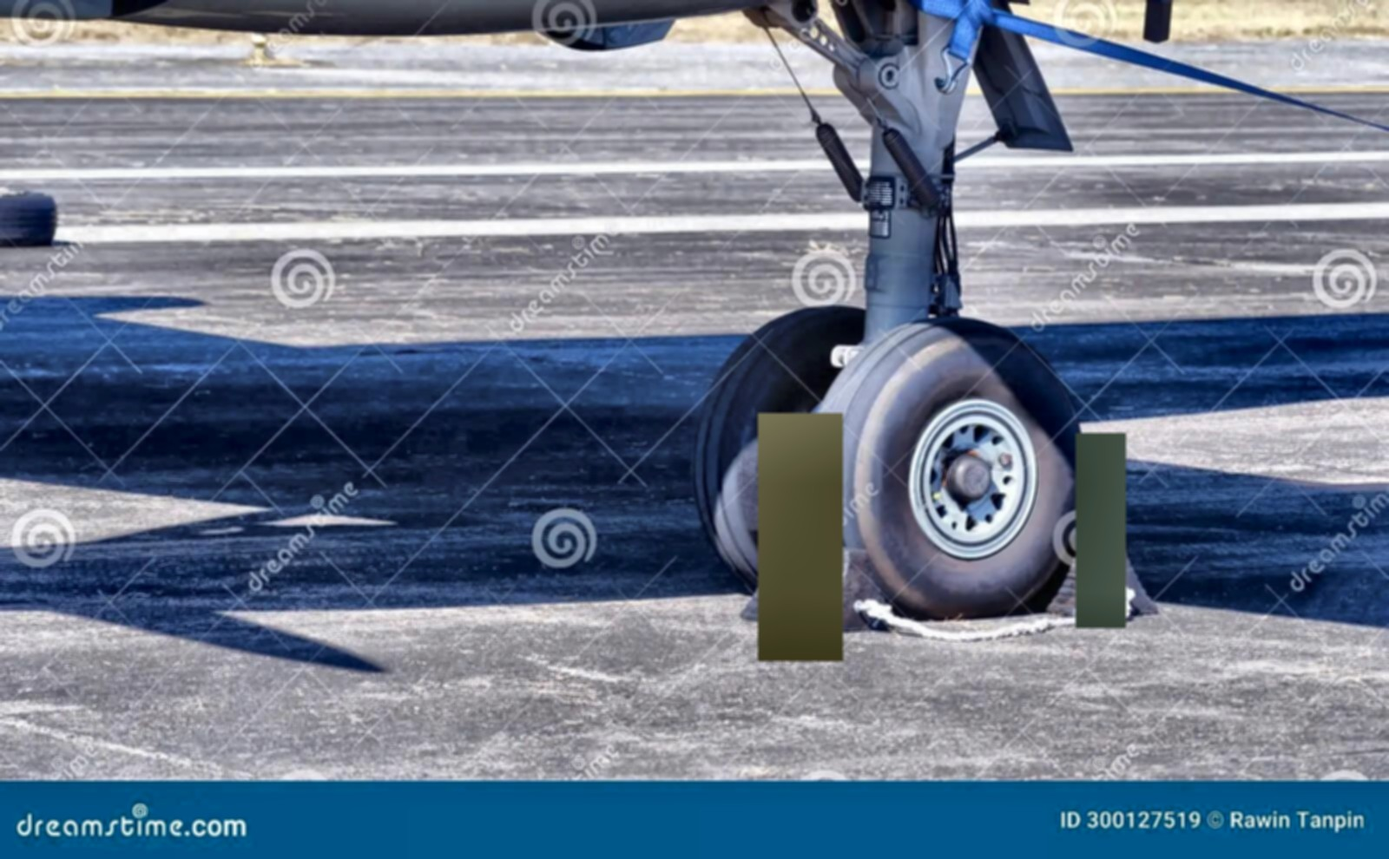chock: (734, 537, 890, 636), (1044, 531, 1160, 626)
wheel: (802, 316, 1084, 616), (690, 303, 873, 596), (1, 189, 58, 248)
